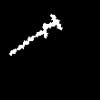double_crochet: (10, 14, 61, 54)
